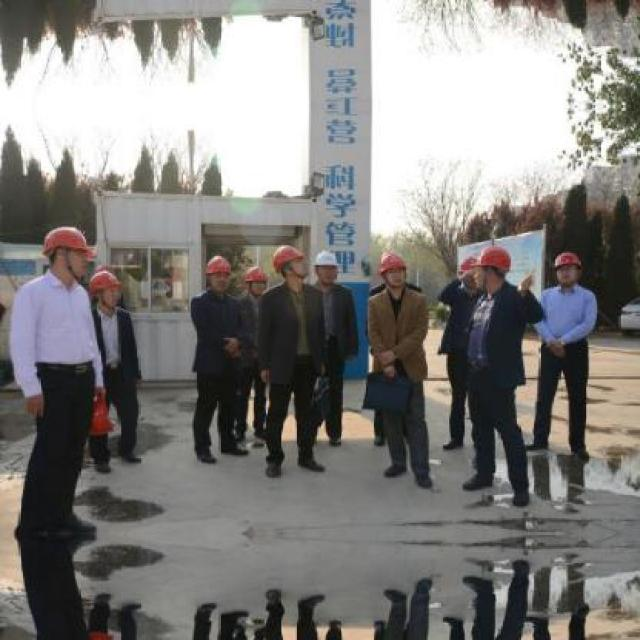helmet: (43, 220, 95, 284), (474, 242, 514, 290), (378, 245, 413, 288), (88, 266, 124, 306), (204, 252, 236, 295), (272, 244, 310, 279), (550, 249, 582, 286), (312, 248, 341, 284), (244, 261, 270, 296), (456, 252, 476, 289)
